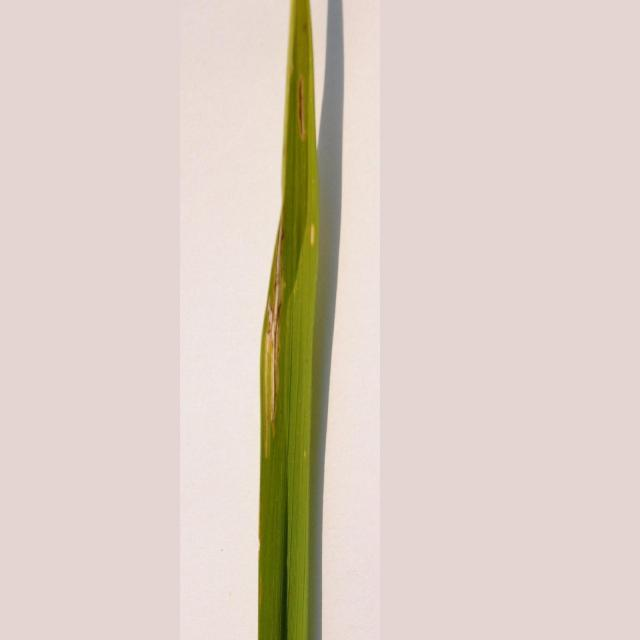leaf blight: (247, 213, 297, 450), (280, 1, 317, 151)
